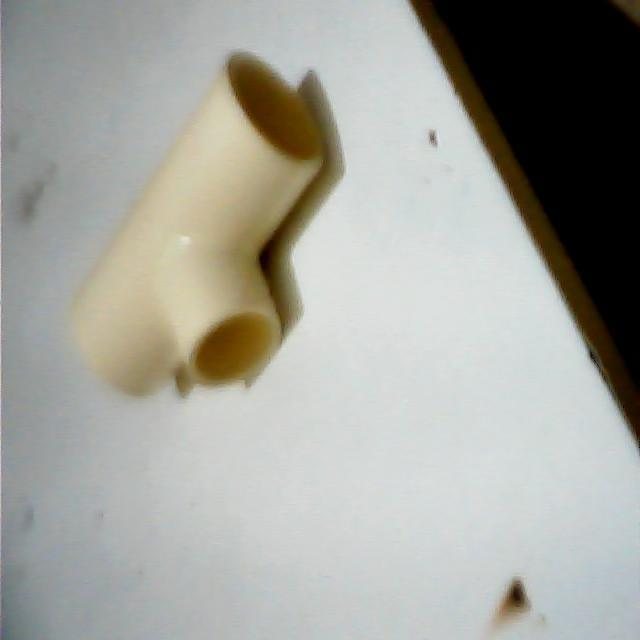T Joint: (70, 52, 326, 398)
